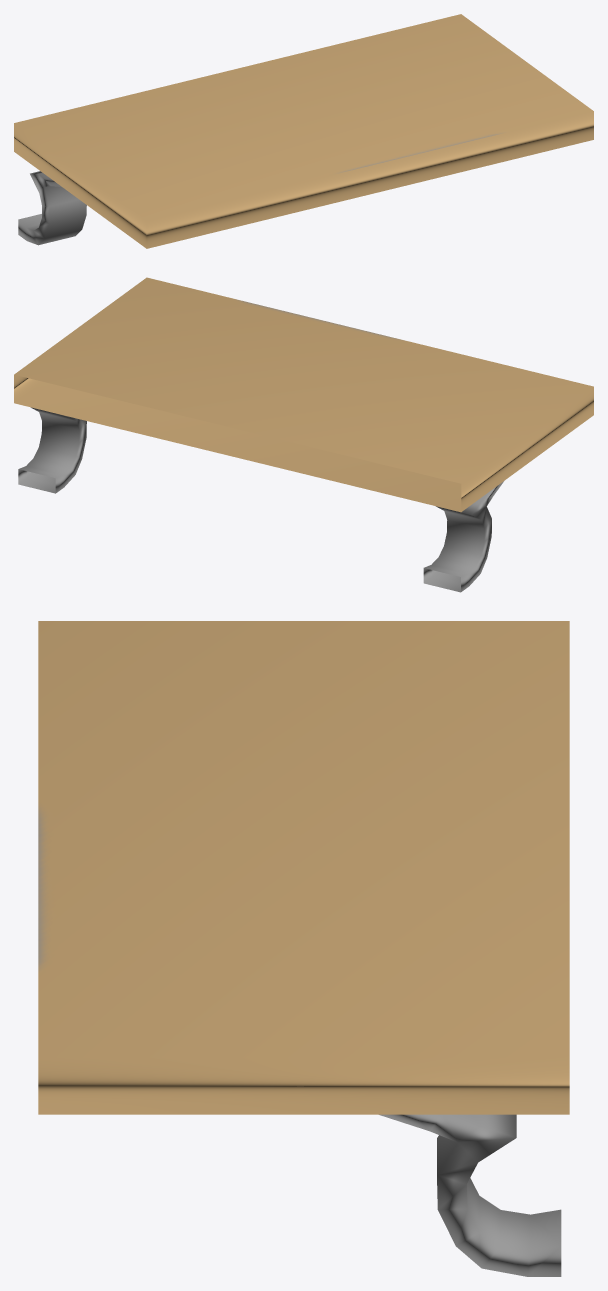
Rendered from shelf.fbx.
3 renders of one model, top to bottom at view 1: azimuth 30°, elevation 25°; view 2: azimuth 150°, elevation 25°; view 3: azimuth 270°, elevation 25°, orthographic. The views are drawn at different scales.
Parts seen in each view (by area): view 1: shelf; view 2: shelf; view 3: shelf.
Part boxes in pixels (box(x1,y1,x2,y2)): shelf: box(14, 14, 593, 248); shelf: box(14, 277, 593, 592); shelf: box(38, 621, 569, 1276).
Size of the model in its own units: 198 by 46.84 by 102.
